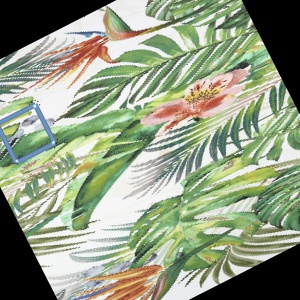square: (1, 102, 58, 166)
